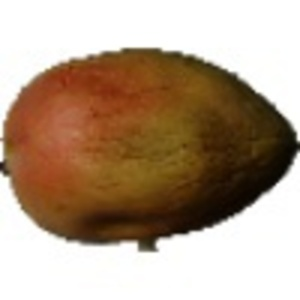mamão: (6, 39, 300, 241)
